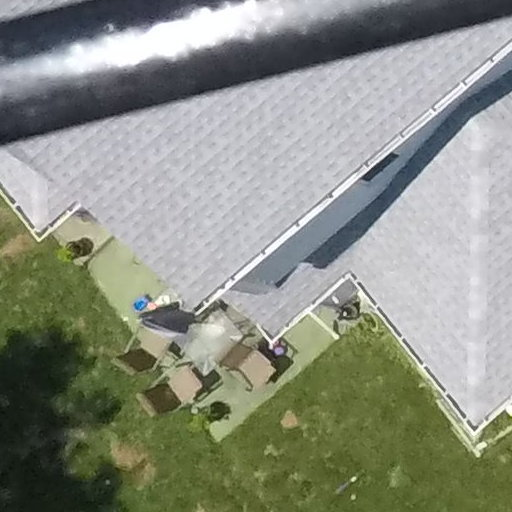container: (337, 302, 359, 322)
flower pot: (53, 233, 98, 262)
